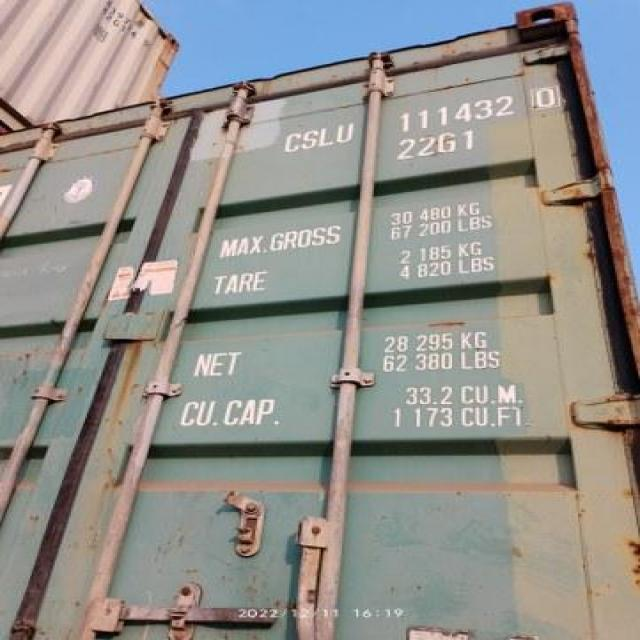ISO: (392, 132, 476, 168)
container_number: (274, 69, 554, 159)
